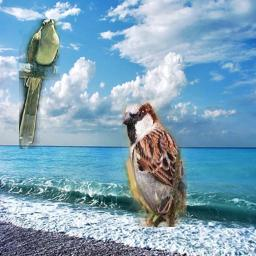Cuckoo: (19, 19, 60, 149)
Sparrow: (122, 97, 187, 227)
